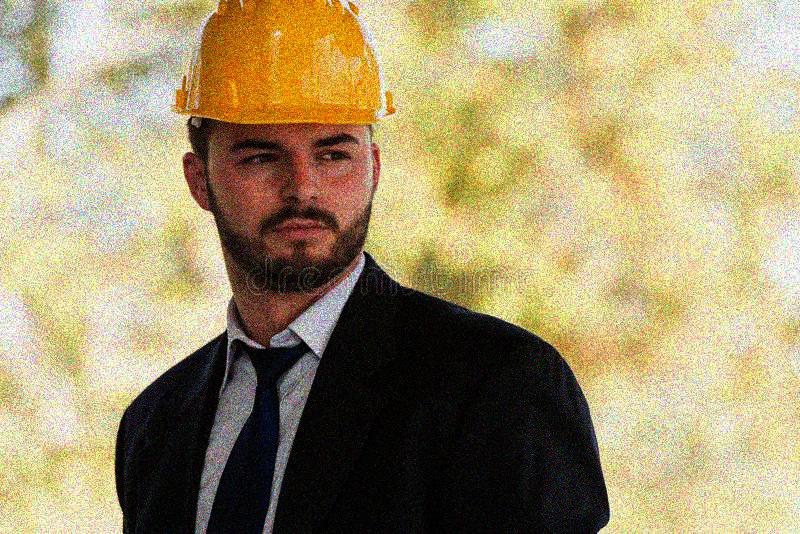helmet: (173, 1, 398, 290)
